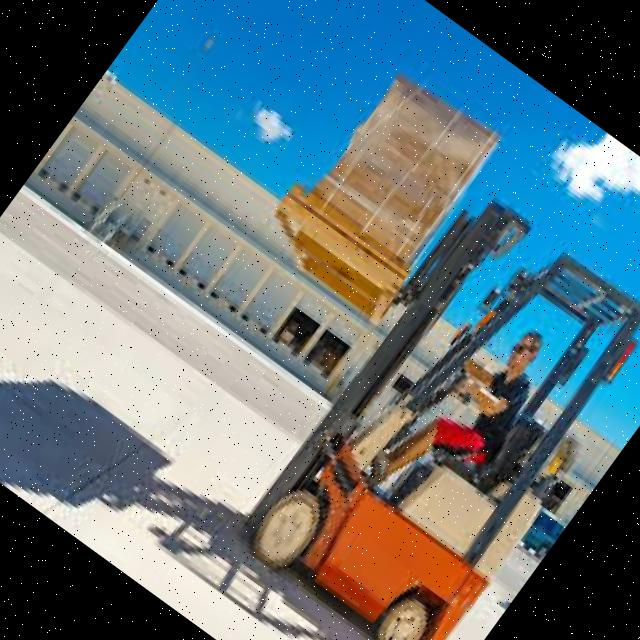Person: (361, 294, 568, 526)
